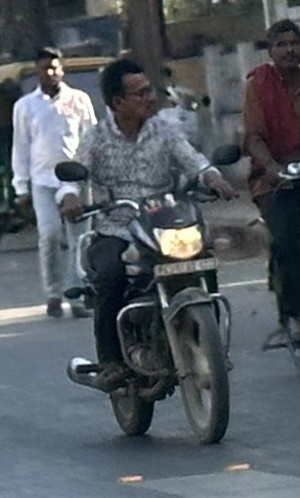BikeWithRider: (46, 49, 247, 456), (236, 11, 300, 382)
NoHelmet: (98, 56, 160, 135), (261, 23, 300, 75)
